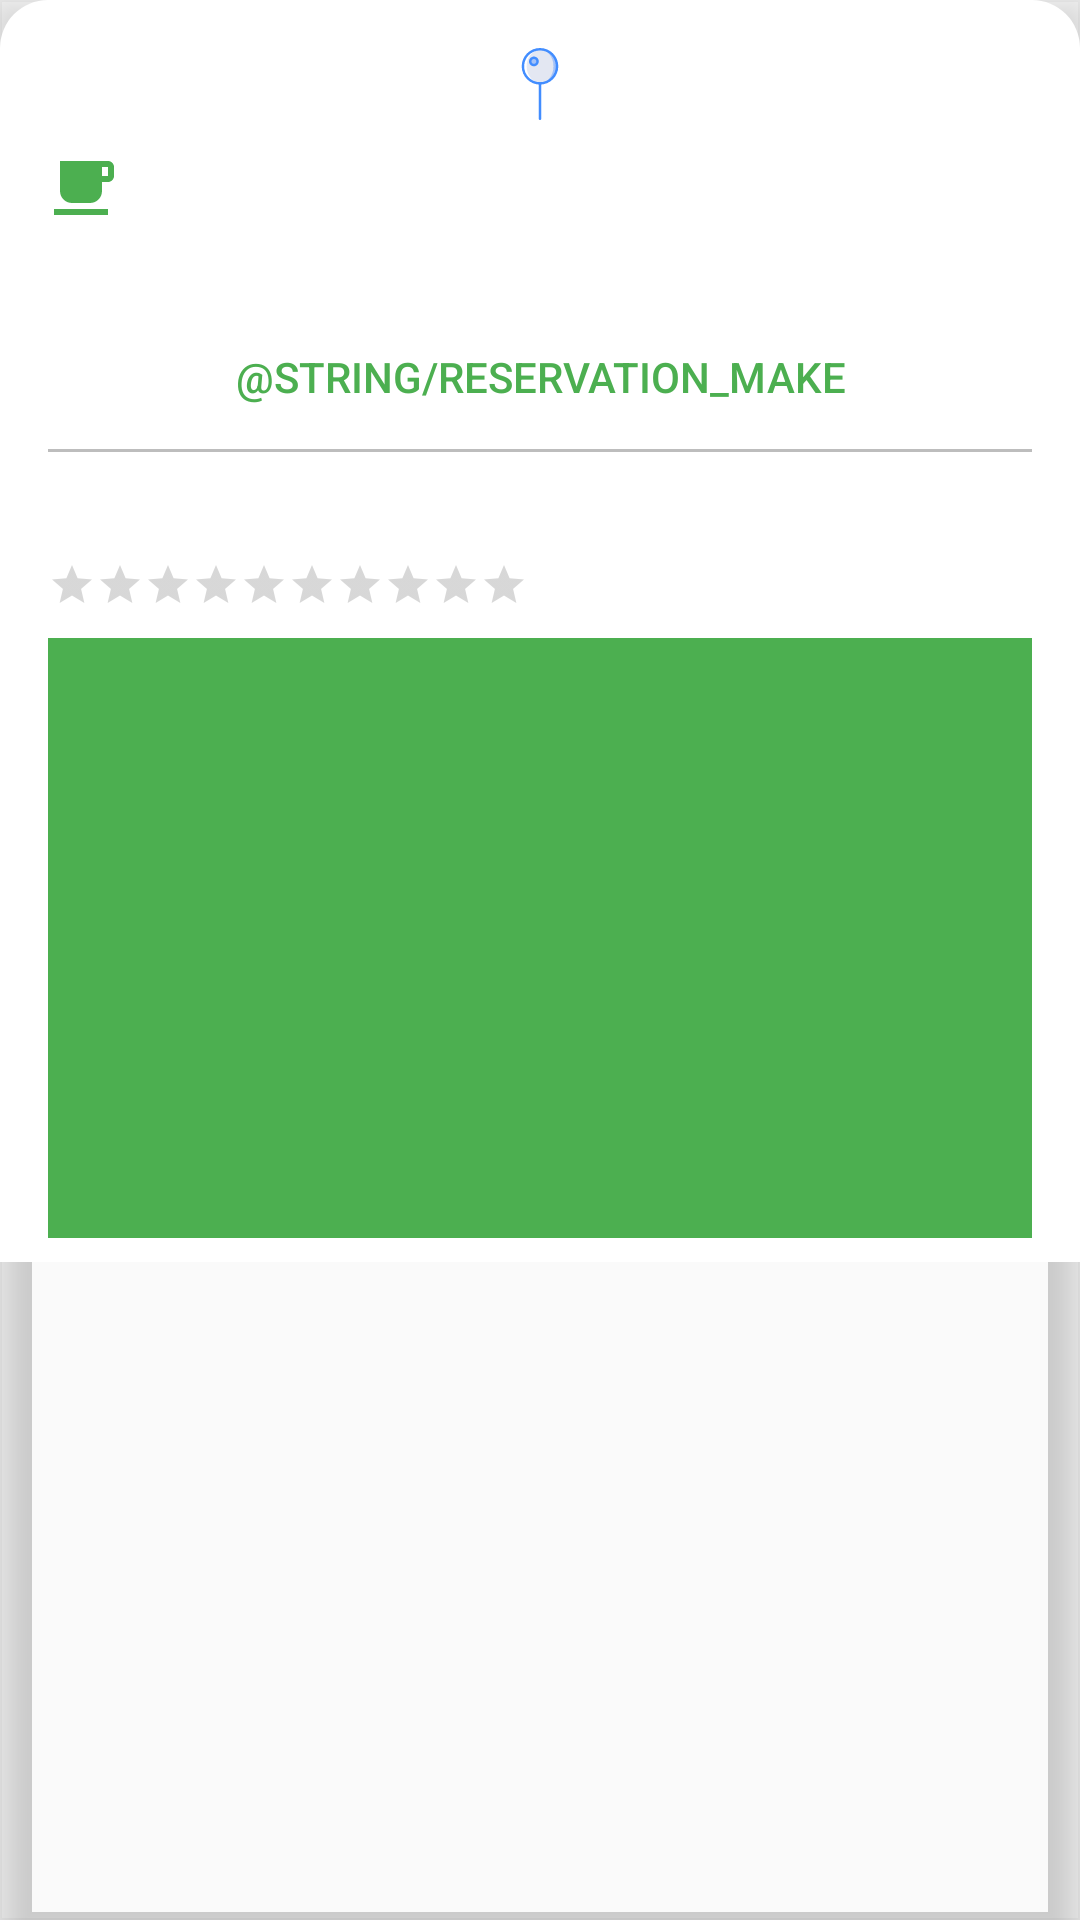

Named icons in this screenshot (1080px x 1920px) and their bounding boxes, (x1,y1,x2,y2):
food pin: (521,48,559,120)
local cafe: (54,161,114,215)
